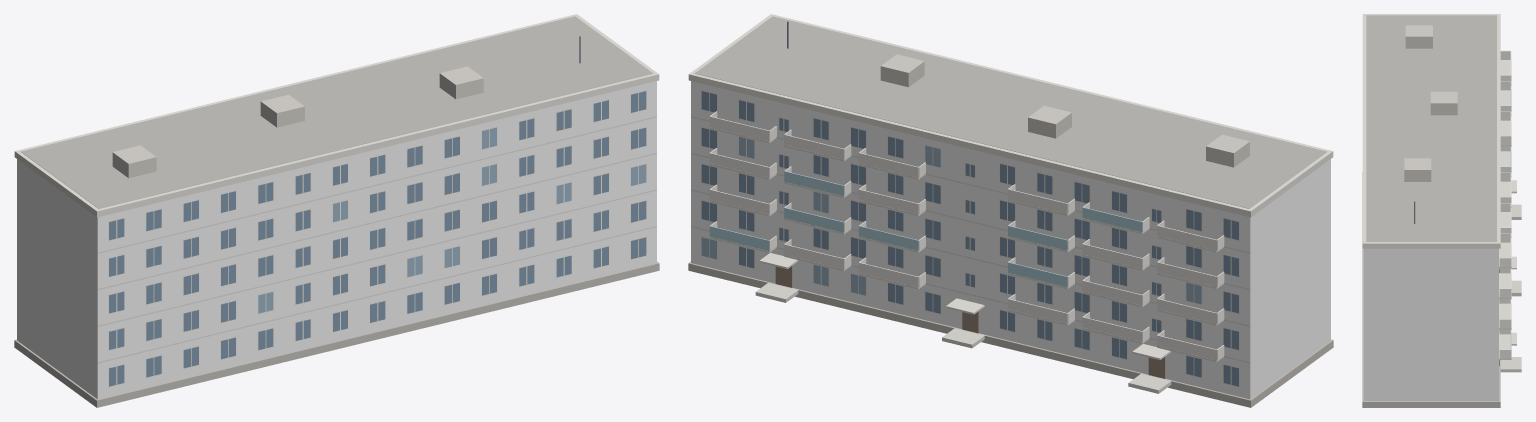
The model's file is khrushchevka_48.glb.
3 views of the same model, side by side, from view 1: azimuth 30°, elevation 25°; view 2: azimuth 150°, elevation 25°; view 3: azimuth 270°, elevation 25° (orthographic). The views are drawn at different scales.
Parts seen in each view (by area): view 1: Khrushchevka48; view 2: Khrushchevka48; view 3: Khrushchevka48.
Part boxes in pixels (x1,y1,x2,y2): Khrushchevka48: (14,14,659,407); Khrushchevka48: (688,14,1333,407); Khrushchevka48: (1362,14,1521,407).
Size of the model in its own units: 48.3 by 18.3 by 14.15.
